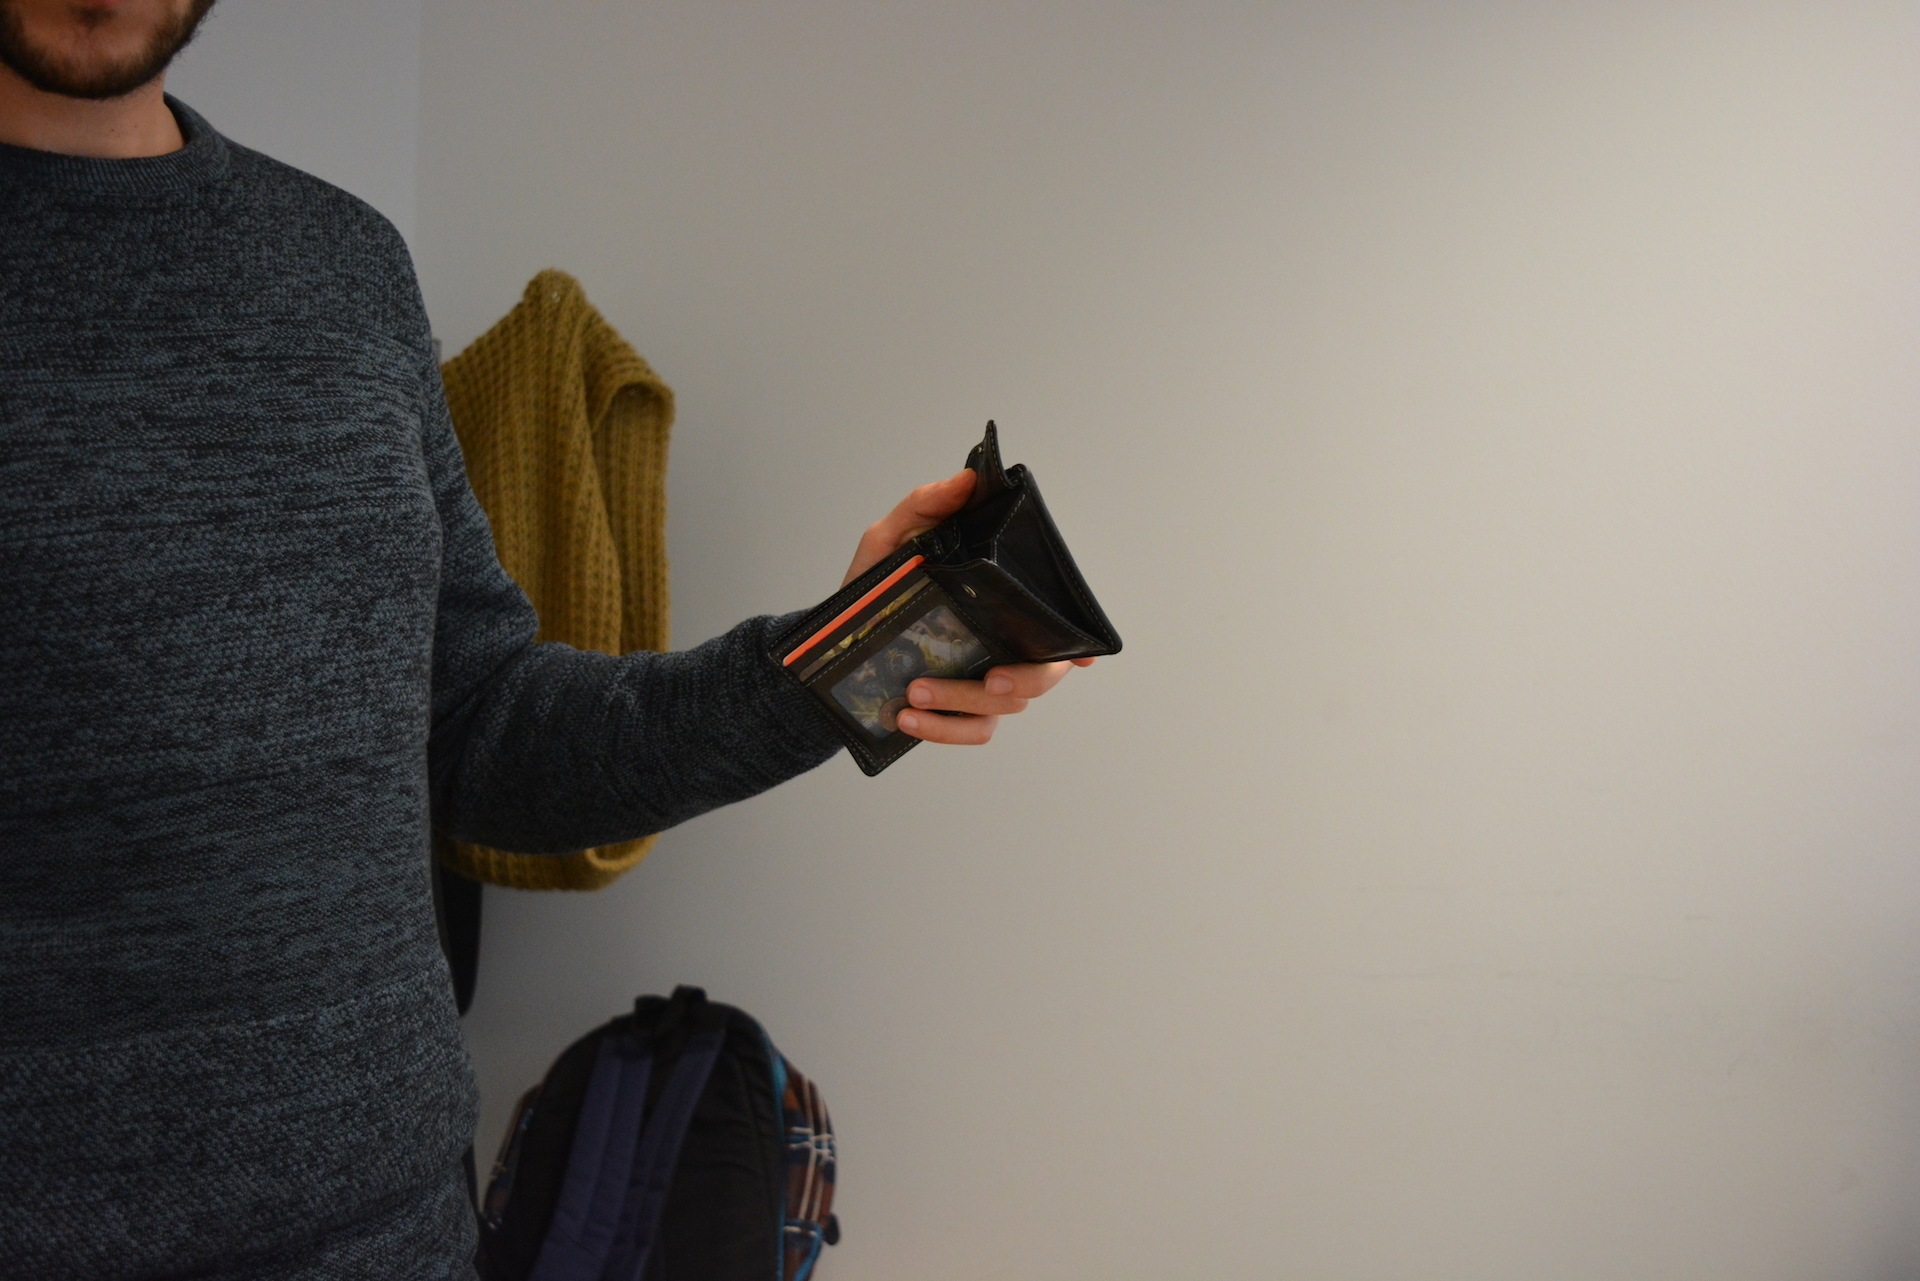monedero: (766, 417, 1127, 781)
